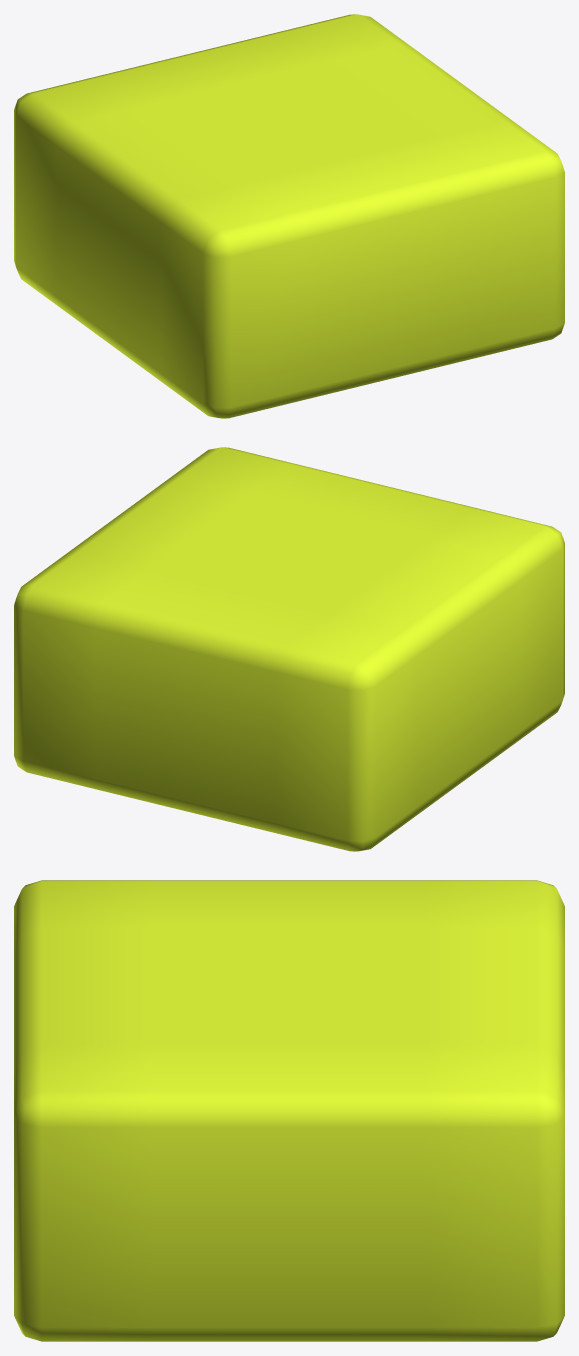
File: tetrisO-glass.obj
3 views of the same model, one above another, from view 1: azimuth 30°, elevation 25°; view 2: azimuth 150°, elevation 25°; view 3: azimuth 270°, elevation 25° (orthographic). The views are drawn at different scales.
Visible parts, largest first — view 1: Cube; view 2: Cube; view 3: Cube.
Boxes of the visible parts, x1,y1,x2,y2 form: Cube: (14,14,564,418); Cube: (14,447,564,851); Cube: (14,880,564,1341).
Bounding box in the file's own units: 0.3 × 0.15 × 0.3.
